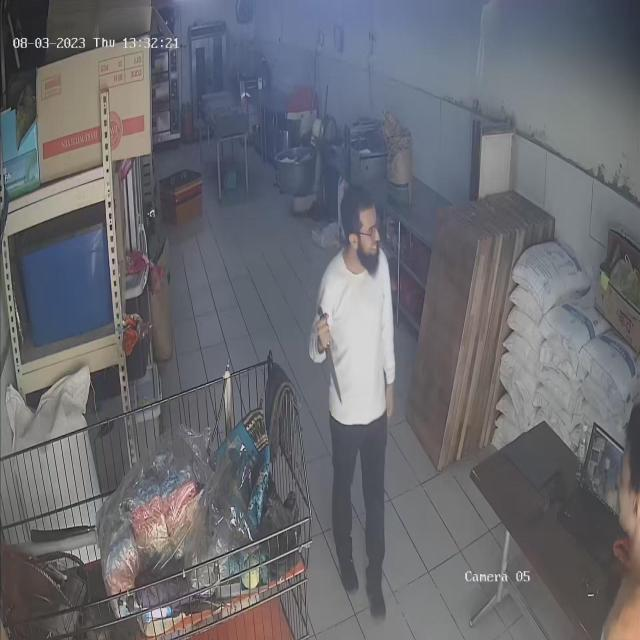Knife: (311, 305, 350, 406)
